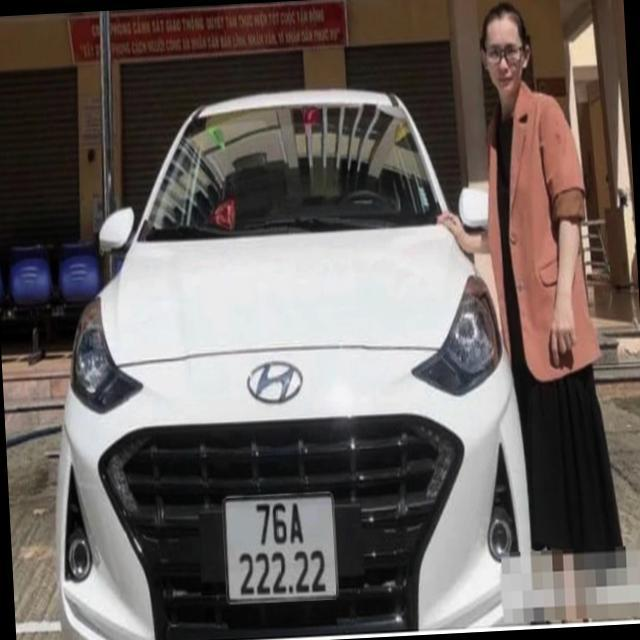car: (52, 57, 538, 637)
plate: (218, 488, 344, 608)
